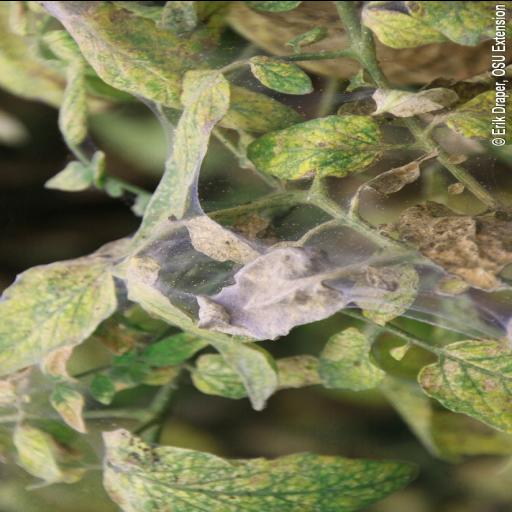disease_tomato: (101, 427, 423, 512), (0, 255, 116, 375), (166, 68, 234, 220), (414, 338, 512, 438), (244, 112, 380, 178), (317, 325, 386, 391), (363, 8, 447, 50), (249, 55, 314, 93)
